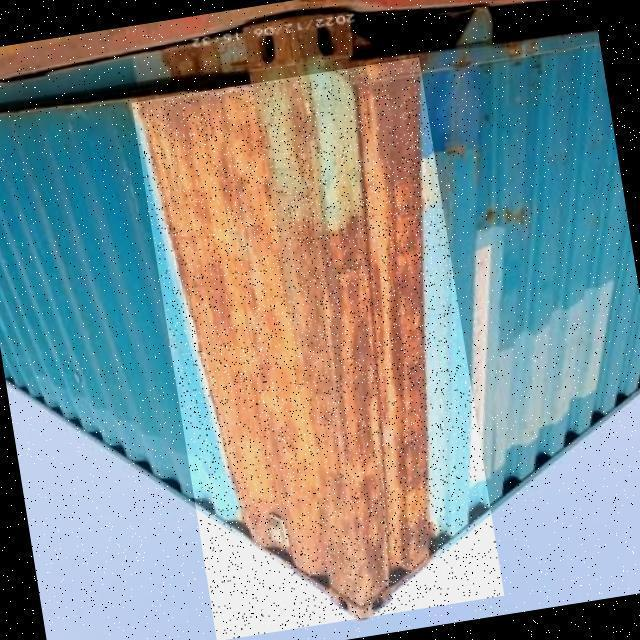rust: (134, 72, 446, 618)
